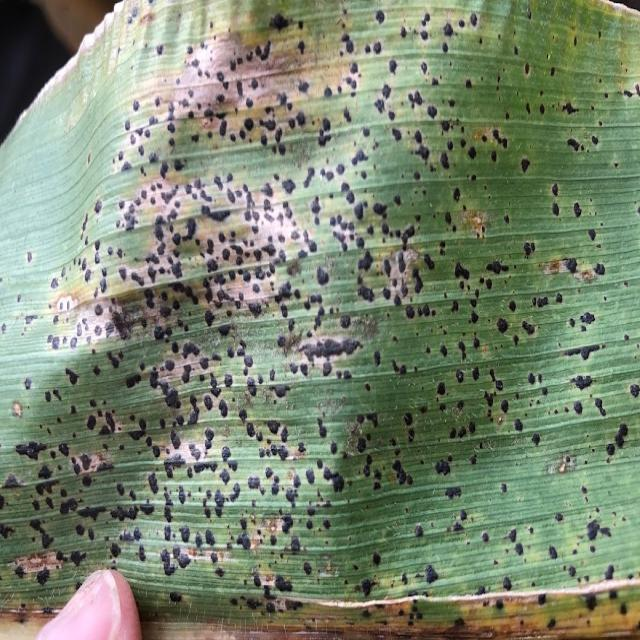Tar_Spot: (2, 1, 637, 623)
